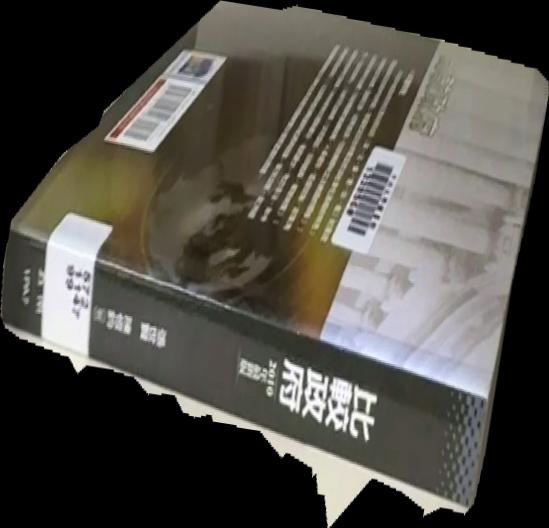flat: (1, 1, 549, 528)
